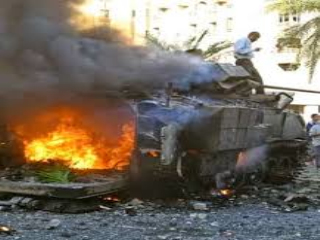fire: (14, 109, 130, 172)
smoke: (13, 24, 212, 97)
